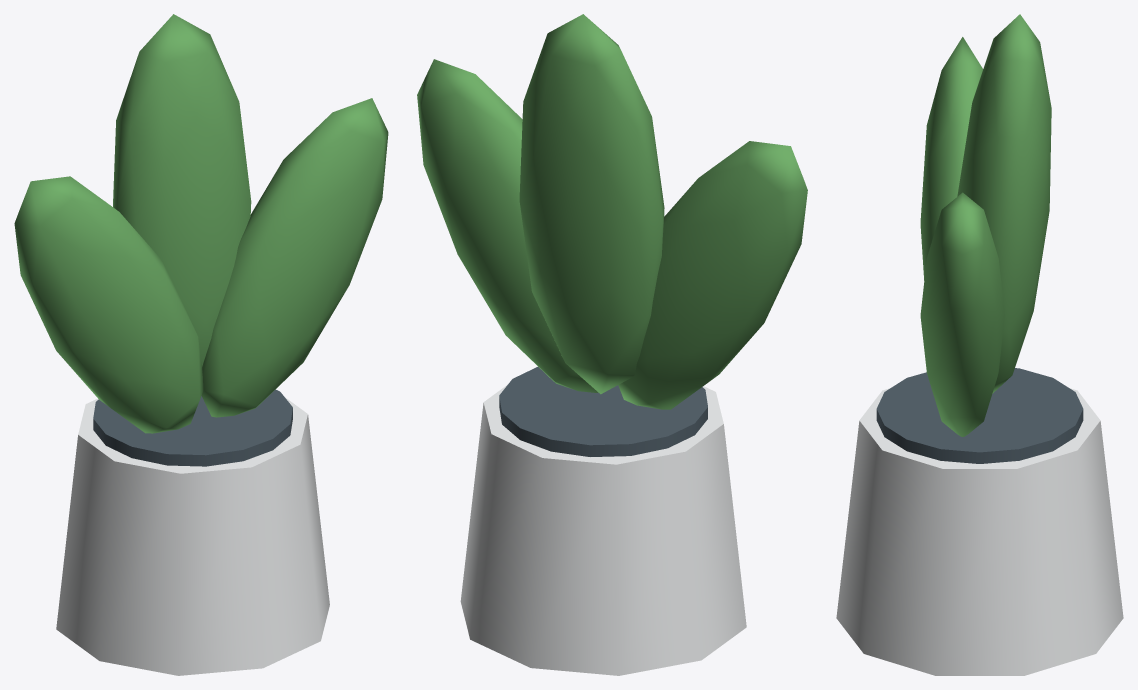
The model's file is living-plant.glb.
The picture shows the model from 3 angles, left to right: view 1: azimuth 30°, elevation 25°; view 2: azimuth 150°, elevation 25°; view 3: azimuth 270°, elevation 25°; orthographic projection. The views are drawn at different scales.
Visible parts, largest first — view 1: pot, leaf-right, leaf-left, leaf-back, soil; view 2: pot, leaf-back, leaf-left, leaf-right, soil; view 3: pot, leaf-back, leaf-right, soil, leaf-left.
Part boxes in pixels (x1,y1,x2,y2): pot: (56, 397, 329, 675); leaf-right: (201, 98, 388, 417); leaf-left: (14, 176, 203, 433); leaf-back: (113, 14, 251, 367); soil: (93, 389, 292, 466); pot: (460, 384, 746, 675); leaf-back: (519, 14, 664, 394); leaf-left: (618, 141, 807, 409); leaf-right: (417, 59, 597, 392); soil: (499, 367, 707, 456); pot: (836, 388, 1123, 675); leaf-back: (957, 14, 1051, 393); leaf-right: (920, 192, 1004, 436); soil: (876, 368, 1083, 463); leaf-left: (920, 37, 983, 280).
Bounding box in the file's own units: 0.7715 × 1.16 × 0.5.
